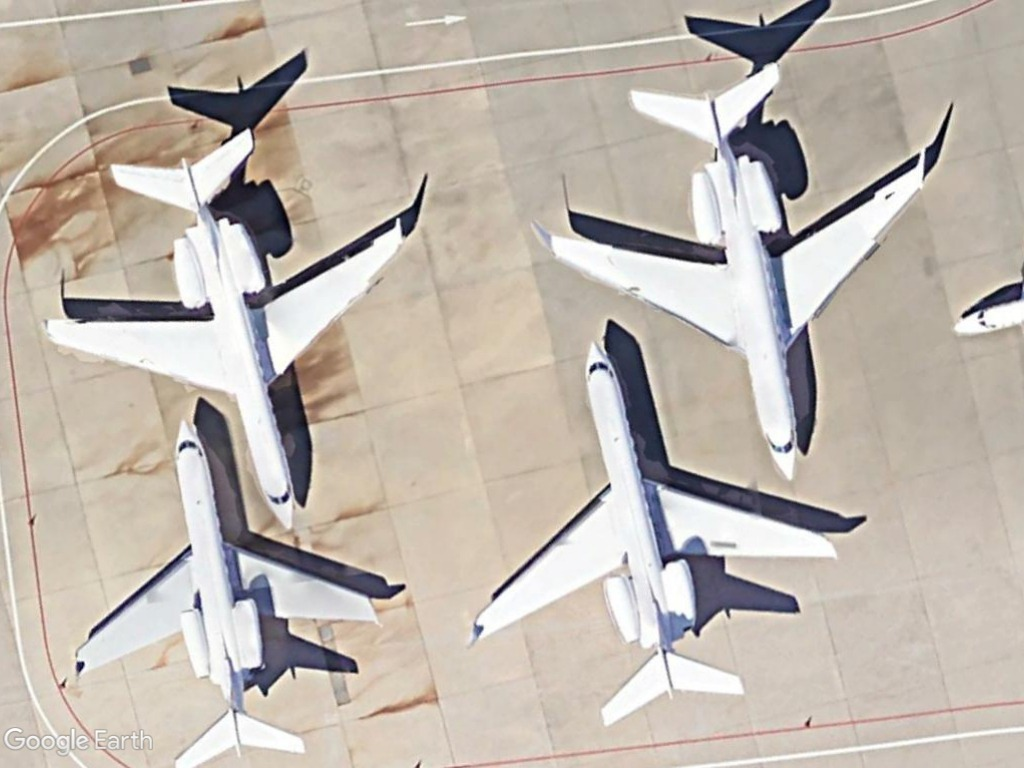chartered: (535, 55, 932, 487), (38, 118, 411, 534), (461, 336, 842, 733), (65, 417, 383, 763)
